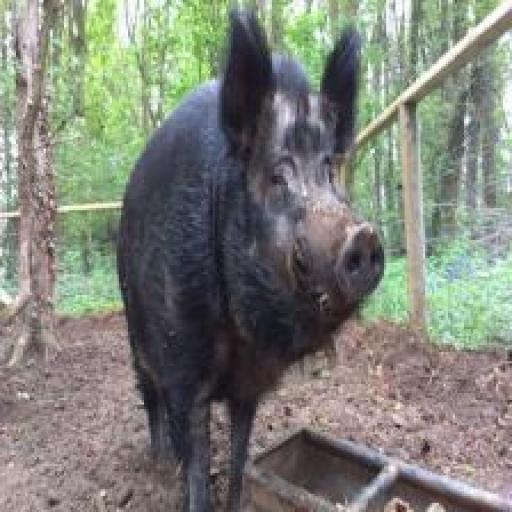Pig: (117, 4, 384, 511)
